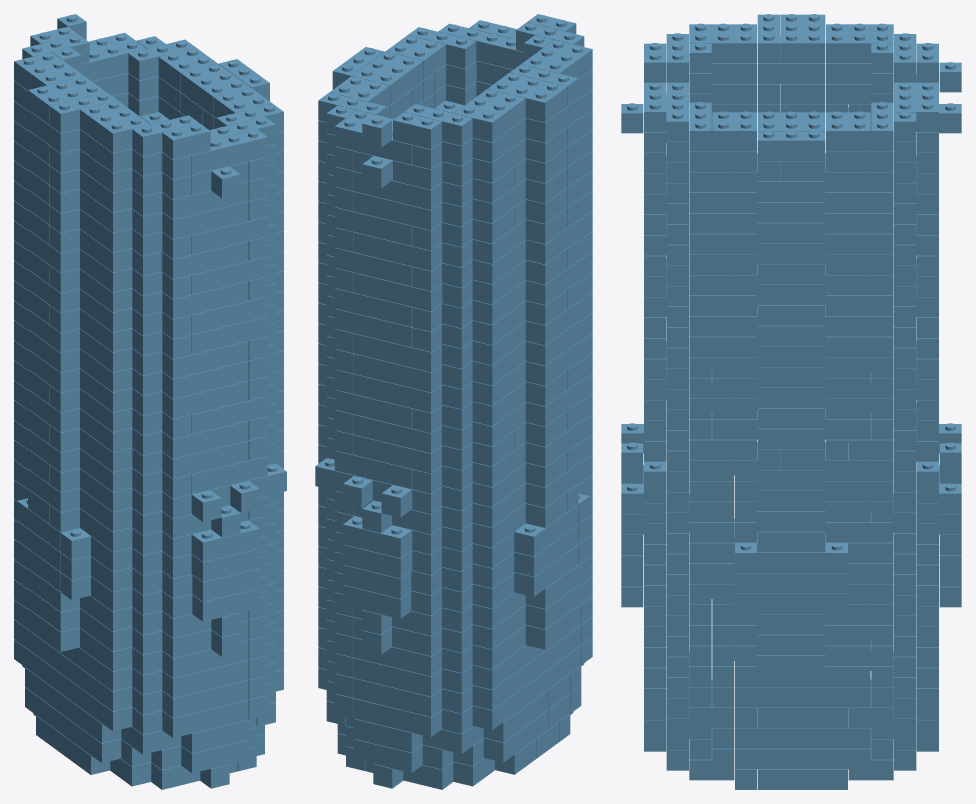
The model's file is 007_basket_L2.glb.
The picture shows the model from 3 angles, left to right: view 1: azimuth 30°, elevation 25°; view 2: azimuth 150°, elevation 25°; view 3: azimuth 270°, elevation 25°; orthographic projection. The views are drawn at different scales.
Bounding box in the file's own units: 10.98 × 33.13 × 14.98.
